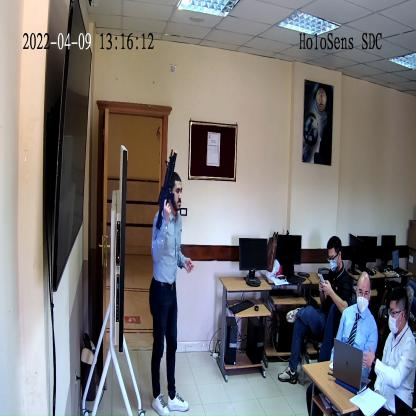handgun: (155, 154, 178, 232)
